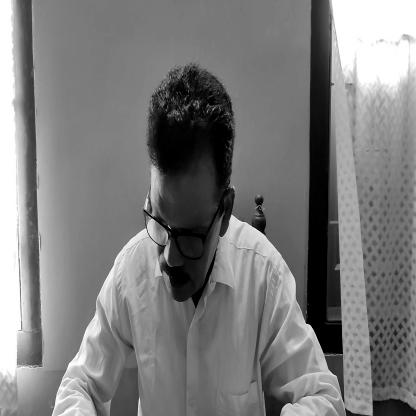Distracted: (145, 79, 238, 305)
